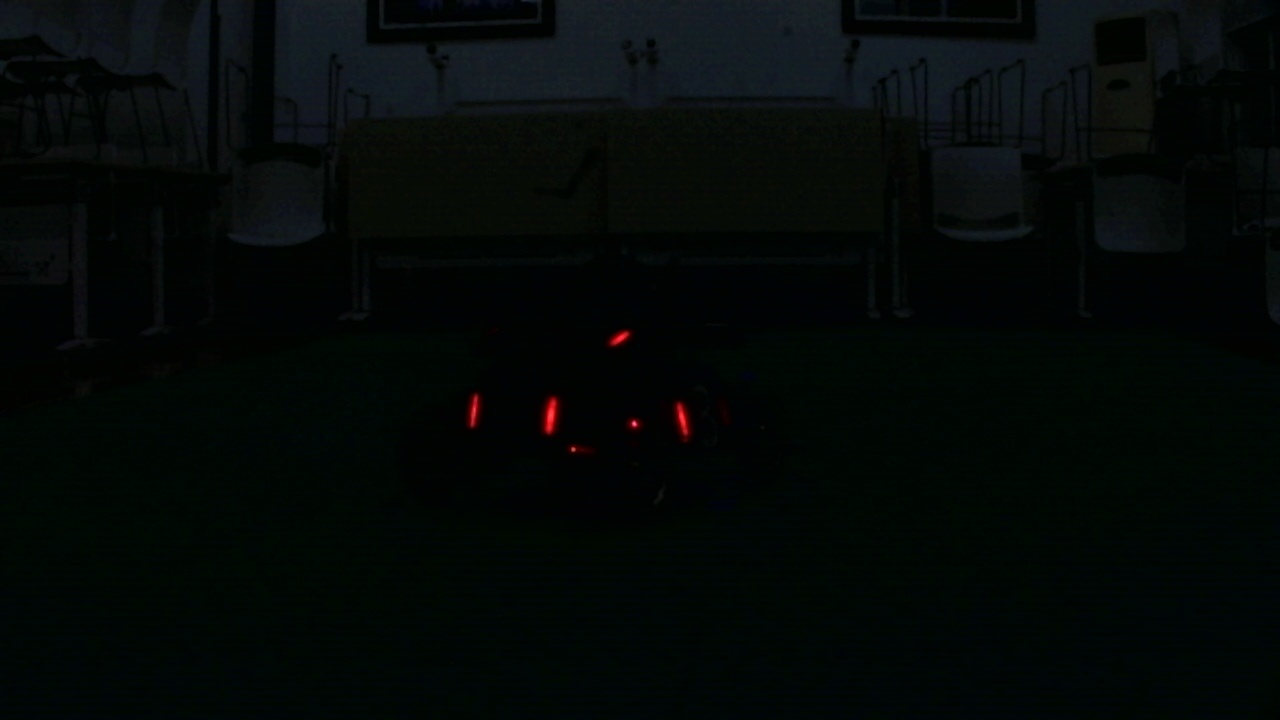lamp: (673, 400, 693, 437), (541, 394, 557, 431), (467, 396, 480, 432)
pair1: (470, 392, 557, 434)
